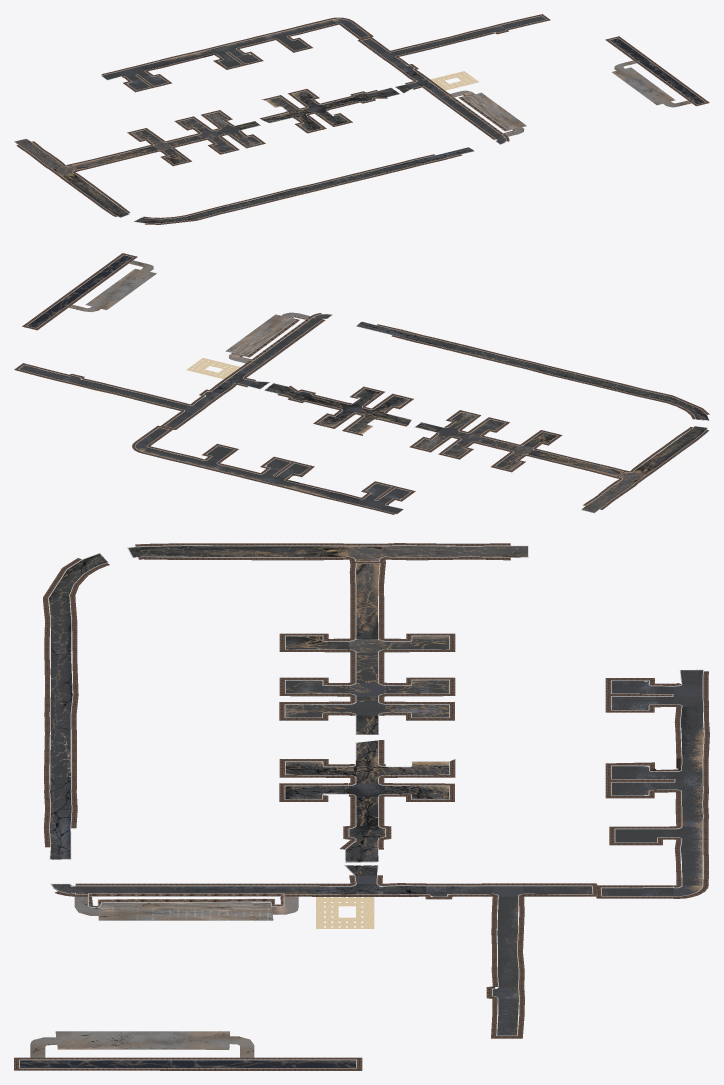
The model's file is New Roads_August.fbx.
3 views of the same model, one above another, from view 1: azimuth 30°, elevation 25°; view 2: azimuth 150°, elevation 25°; view 3: azimuth 270°, elevation 25° (orthographic). The views are drawn at different scales.
Parts seen in each view (by area): view 1: polySurface450_GAME_READY.001__RETEXTURE_MERGED, Sidewalk_RoadNetwork, Curb_Blocks_RoadNetwork, polySurface450_GAME_READY.001__PArking_texture, polySurface450_GAME_READY.001__FLOOR_TEXTURE, Sidewalk; view 2: polySurface450_GAME_READY.001__RETEXTURE_MERGED, Sidewalk_RoadNetwork, Curb_Blocks_RoadNetwork, polySurface450_GAME_READY.001__PArking_texture, polySurface450_GAME_READY.001__FLOOR_TEXTURE, Sidewalk; view 3: polySurface450_GAME_READY.001__RETEXTURE_MERGED, Sidewalk_RoadNetwork, Curb_Blocks_RoadNetwork, polySurface450_GAME_READY.001__PArking_texture, polySurface450_GAME_READY.001__FLOOR_TEXTURE, Sidewalk, Curb_Blocks.
Boxes of the visible parts, x1,y1,x2,y2 form: polySurface450_GAME_READY.001__RETEXTURE_MERGED: (15, 16, 704, 223); Sidewalk_RoadNetwork: (16, 14, 709, 224); Curb_Blocks_RoadNetwork: (14, 15, 705, 223); polySurface450_GAME_READY.001__PArking_texture: (450, 60, 691, 136); polySurface450_GAME_READY.001__FLOOR_TEXTURE: (429, 71, 478, 90); Sidewalk: (451, 94, 514, 134); polySurface450_GAME_READY.001__RETEXTURE_MERGED: (19, 255, 708, 513); Sidewalk_RoadNetwork: (14, 253, 709, 514); Curb_Blocks_RoadNetwork: (18, 255, 709, 514); polySurface450_GAME_READY.001__PArking_texture: (69, 260, 309, 363); polySurface450_GAME_READY.001__FLOOR_TEXTURE: (186, 358, 240, 379); Sidewalk: (239, 316, 309, 360); polySurface450_GAME_READY.001__RETEXTURE_MERGED: (20, 546, 703, 1067); Sidewalk_RoadNetwork: (14, 543, 709, 1070); Curb_Blocks_RoadNetwork: (19, 545, 704, 1068); polySurface450_GAME_READY.001__PArking_texture: (30, 895, 298, 1057); polySurface450_GAME_READY.001__FLOOR_TEXTURE: (316, 897, 374, 928); Sidewalk: (88, 893, 283, 907); Curb_Blocks: (88, 893, 284, 907).
Bounding box in the file's own units: 46905 × 38.52 × 26148.
